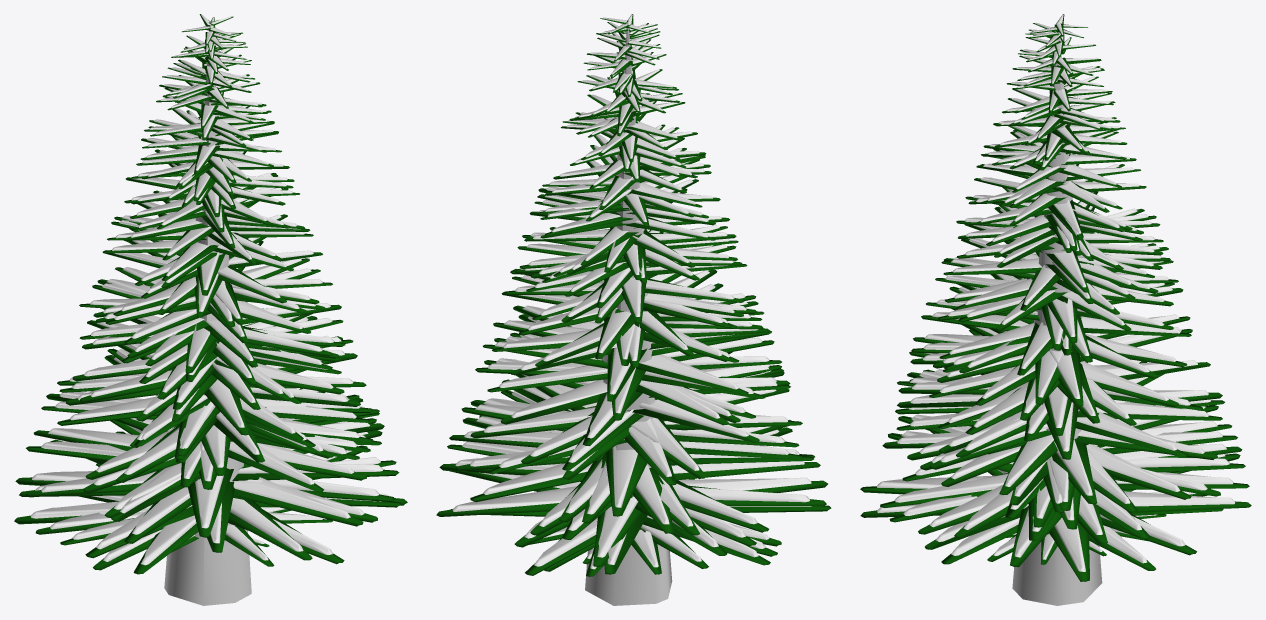
The model's file is tree1.fbx.
3 renders of one model, left to right at view 1: azimuth 30°, elevation 25°; view 2: azimuth 150°, elevation 25°; view 3: azimuth 270°, elevation 25°, orthographic.
Parts seen in each view (by area): view 1: Tree1.167, Tree1.250, Tree1.052, Tree1.294, Tree1.241, Tree1.334, Tree1.372, Tree1.457, Tree1.412, Tree1.511, Tree1.569, Tree1 (+3 smaller); view 2: Tree1.167, Tree1.052, Tree1.241, Tree1.294, Tree1.250, Tree1.457, Tree1.372, Tree1.412, Tree1.334, Tree1.511, Tree1, Tree1.569 (+3 smaller); view 3: Tree1.167, Tree1.241, Tree1.294, Tree1.250, Tree1.334, Tree1.412, Tree1.052, Tree1.457, Tree1.511, Tree1.372, Tree1, Tree1.569 (+3 smaller).
Part boxes in pixels (box(x1,y1,x2,y2)): Tree1.167: box(15, 388, 401, 560); Tree1.250: box(57, 343, 373, 467); Tree1.052: box(14, 431, 407, 574); Tree1.294: box(70, 313, 357, 435); Tree1.241: box(41, 355, 381, 491); Tree1.334: box(79, 283, 345, 399); Tree1.372: box(79, 240, 325, 367); Tree1.457: box(103, 188, 313, 295); Tree1.412: box(102, 215, 332, 327); Tree1.511: box(124, 149, 299, 248); Tree1.569: box(131, 110, 289, 201); Tree1: box(164, 24, 251, 605); Tree1.167: box(439, 390, 820, 574); Tree1.052: box(436, 471, 831, 576); Tree1.241: box(461, 374, 802, 485); Tree1.294: box(475, 305, 781, 420); Tree1.250: box(484, 332, 790, 470); Tree1.457: box(522, 188, 738, 283); Tree1.372: box(501, 268, 762, 367); Tree1.412: box(510, 227, 747, 323); Tree1.334: box(492, 283, 771, 401); Tree1.511: box(537, 145, 720, 226); Tree1: box(585, 22, 672, 605); Tree1.569: box(553, 112, 706, 193); Tree1.167: box(860, 405, 1249, 567); Tree1.241: box(882, 359, 1224, 510); Tree1.294: box(909, 308, 1192, 435); Tree1.250: box(895, 329, 1222, 459); Tree1.334: box(921, 274, 1191, 397); Tree1.412: box(941, 238, 1178, 330); Tree1.052: box(860, 426, 1251, 581); Tree1.457: box(956, 187, 1163, 292); Tree1.511: box(965, 144, 1146, 252); Tree1.372: box(926, 274, 1183, 362); Tree1: box(1012, 23, 1102, 605); Tree1.569: box(981, 117, 1136, 192).
Bounding box in the file's own units: 173 × 275 × 173.
